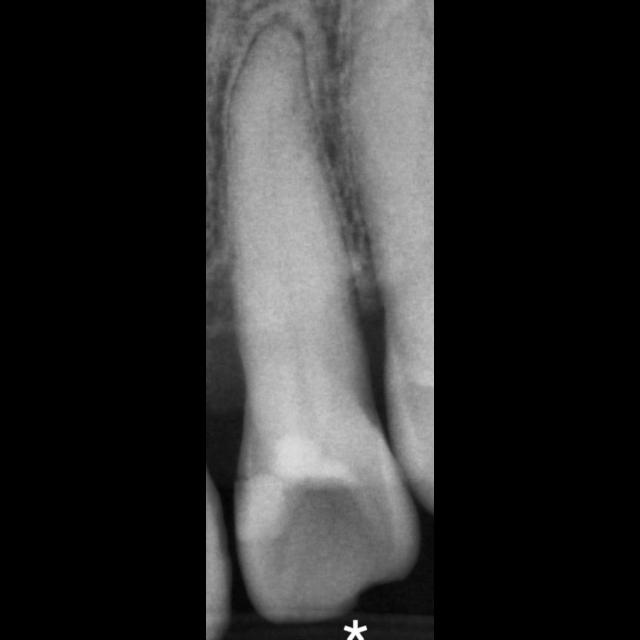tooth: (227, 24, 420, 623)
